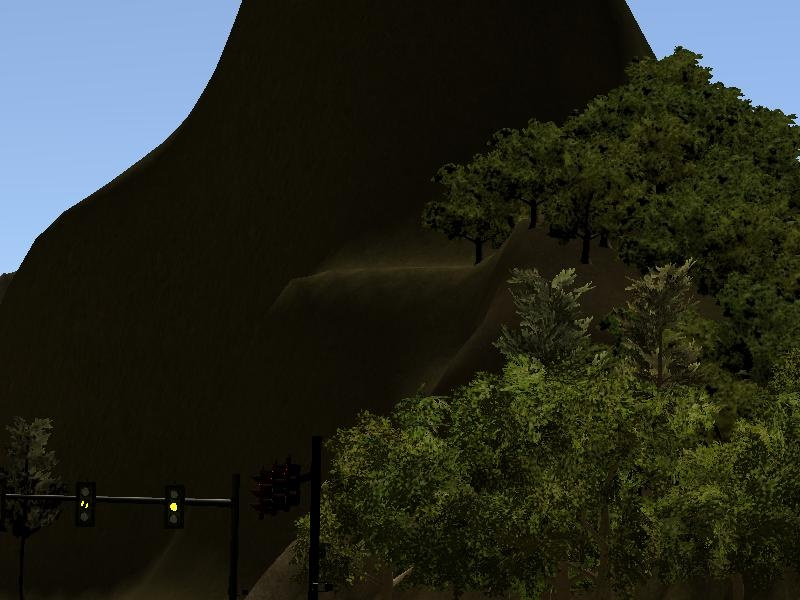YELLOW: (160, 483, 184, 535), (71, 478, 96, 526)
